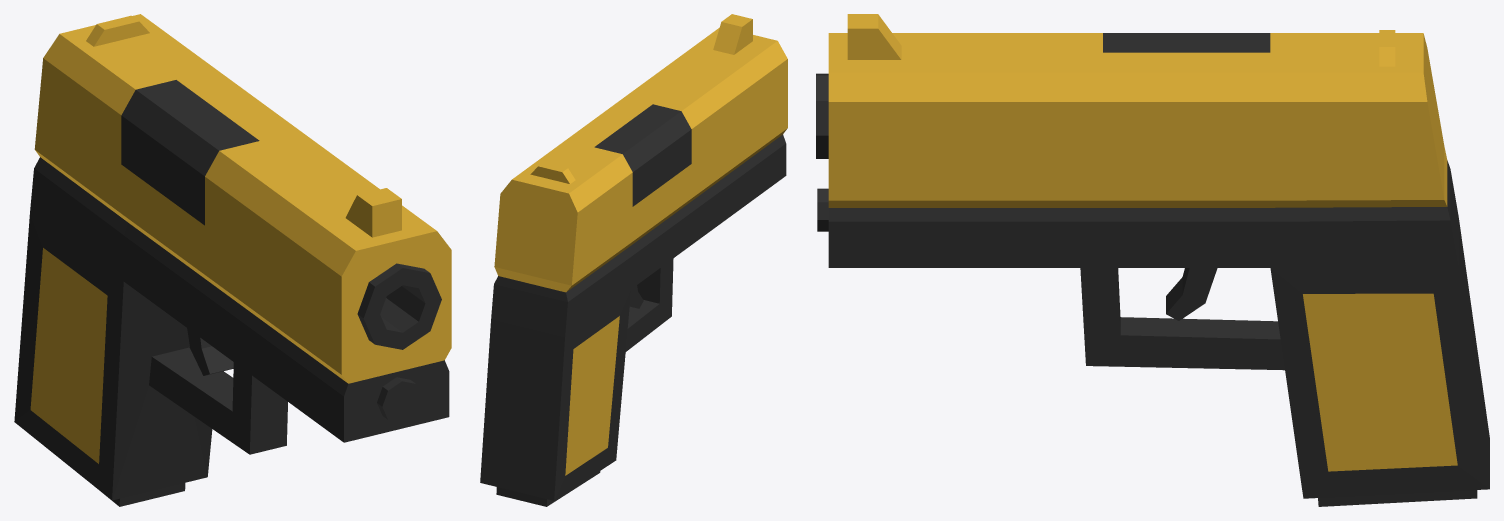
File: Gun_3_00_18C_Handgun.fbx
The picture shows the model from 3 angles, left to right: view 1: azimuth 30°, elevation 25°; view 2: azimuth 150°, elevation 25°; view 3: azimuth 270°, elevation 25°; orthographic projection. The views are drawn at different scales.
Visible parts, largest first — view 1: Gun_3_00_18C_Handgun; view 2: Gun_3_00_18C_Handgun; view 3: Gun_3_00_18C_Handgun.
Part boxes in pixels (x1,y1,x2,y2): Gun_3_00_18C_Handgun: (14,14,451,506); Gun_3_00_18C_Handgun: (480,14,787,506); Gun_3_00_18C_Handgun: (816,14,1489,506).
Size of the model in its own units: 0.1802 by 0.7335 by 0.9536.
